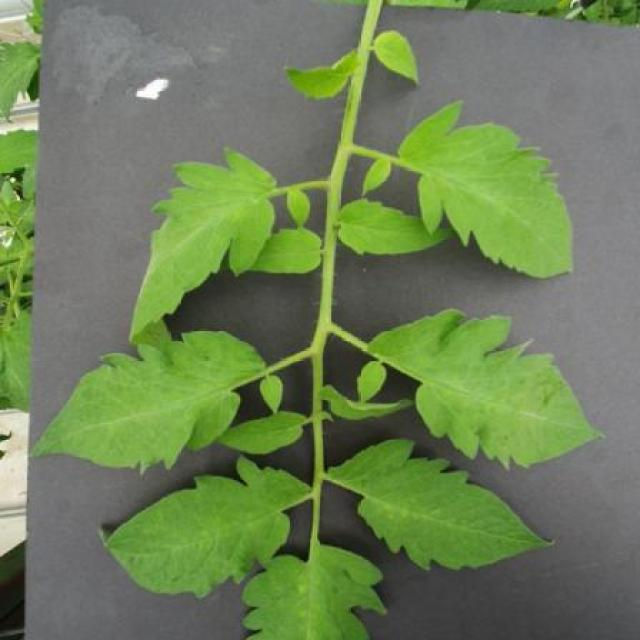Healthy: (356, 306, 606, 471), (28, 328, 263, 476), (398, 99, 576, 281), (128, 144, 278, 350), (100, 455, 314, 599), (339, 196, 454, 256), (213, 410, 307, 456)
